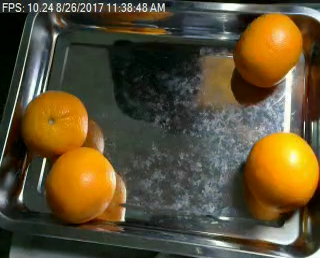Orange: (245, 131, 319, 213), (44, 146, 117, 222), (232, 10, 302, 86), (22, 90, 88, 156)
